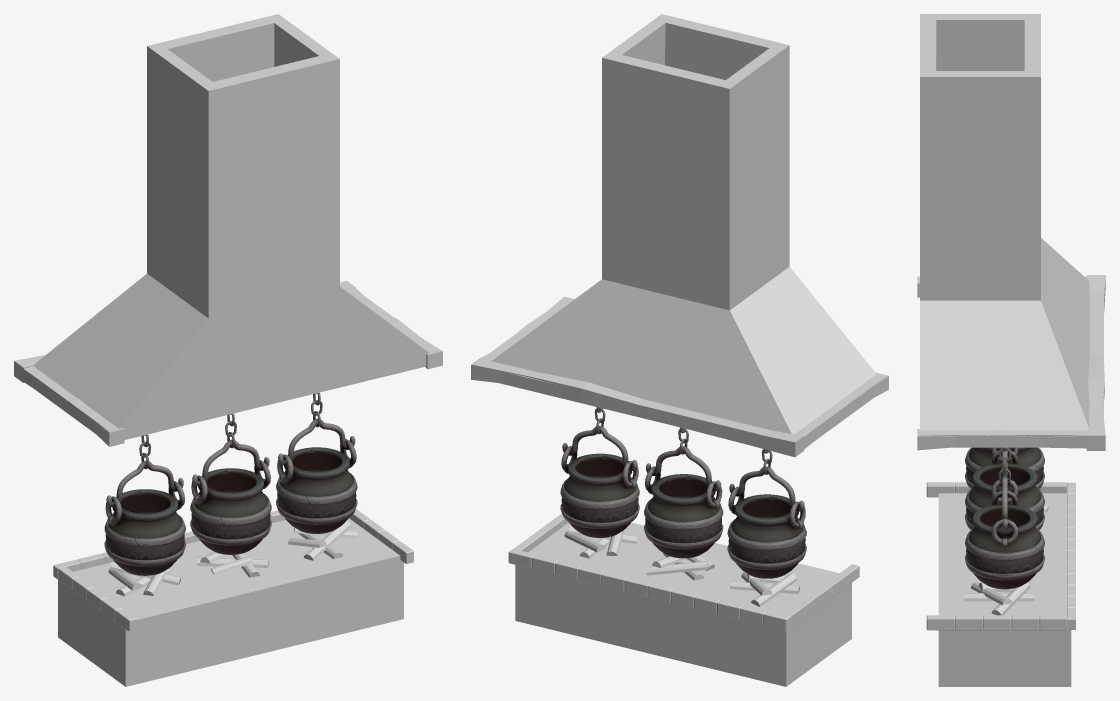
Rendered from ocaktest.fbx.
3 renders of one model, left to right at view 1: azimuth 30°, elevation 25°; view 2: azimuth 150°, elevation 25°; view 3: azimuth 270°, elevation 25°, orthographic. The views are drawn at different scales.
Visible parts, largest first — view 1: ocak_üst.001, ocak_alt.001, kazan_low.001, ocak_üst_tahta.001, Cube.021, odun.001, odun.006, odun.003, Cube.020, Cube.019; view 2: ocak_üst.001, ocak_alt.001, kazan_low.001, ocak_üst_tahta.001, Cube.019, Cube.021, odun.006, odun.003, odun.001, Cube.020; view 3: ocak_üst.001, ocak_alt.001, kazan_low.001, ocak_üst_tahta.001, Cube.020, Cube.019, odun.001, Cube.021.
Part boxes in pixels (bbox=[...]): ocak_üst.001: bbox=[25, 14, 438, 439]; ocak_alt.001: bbox=[58, 518, 403, 686]; kazan_low.001: bbox=[104, 392, 357, 575]; ocak_üst_tahta.001: bbox=[14, 280, 442, 446]; Cube.021: bbox=[58, 566, 136, 631]; odun.001: bbox=[288, 520, 357, 560]; odun.006: bbox=[108, 561, 180, 596]; odun.003: bbox=[196, 552, 268, 577]; Cube.020: bbox=[349, 509, 413, 563]; Cube.019: bbox=[53, 510, 285, 579]; ocak_üst.001: bbox=[484, 14, 885, 443]; ocak_alt.001: bbox=[515, 522, 851, 686]; kazan_low.001: bbox=[560, 407, 806, 578]; ocak_üst_tahta.001: bbox=[471, 296, 888, 457]; Cube.019: bbox=[508, 549, 790, 630]; Cube.021: bbox=[783, 564, 859, 626]; odun.006: bbox=[730, 572, 799, 606]; odun.003: bbox=[646, 553, 714, 580]; odun.001: bbox=[564, 525, 637, 558]; Cube.020: bbox=[514, 513, 568, 552]; ocak_üst.001: bbox=[920, 14, 1103, 447]; ocak_alt.001: bbox=[938, 493, 1071, 686]; kazan_low.001: bbox=[965, 447, 1044, 589]; ocak_üst_tahta.001: bbox=[917, 275, 1105, 450]; Cube.020: bbox=[926, 615, 1067, 630]; Cube.019: bbox=[1067, 482, 1075, 629]; odun.001: bbox=[964, 582, 1034, 615]; Cube.021: bbox=[926, 482, 1066, 497].
Bounding box in the file's own units: 3.89 × 6.52 × 1.94.
